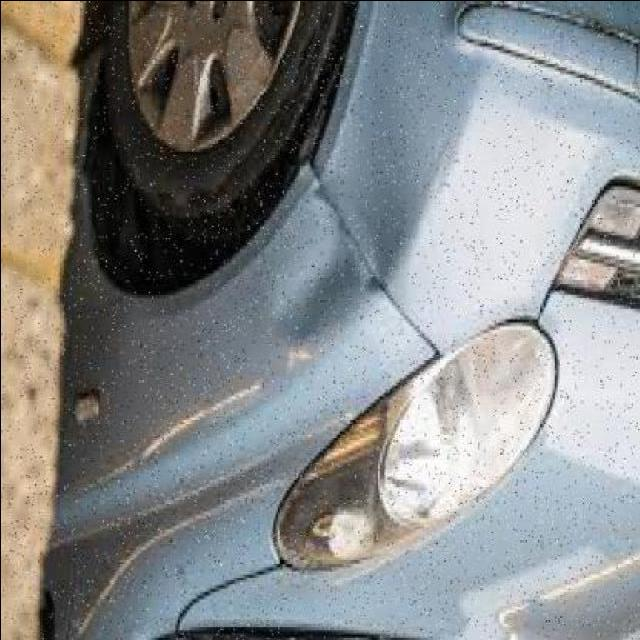fender-dent: (46, 136, 377, 580)
